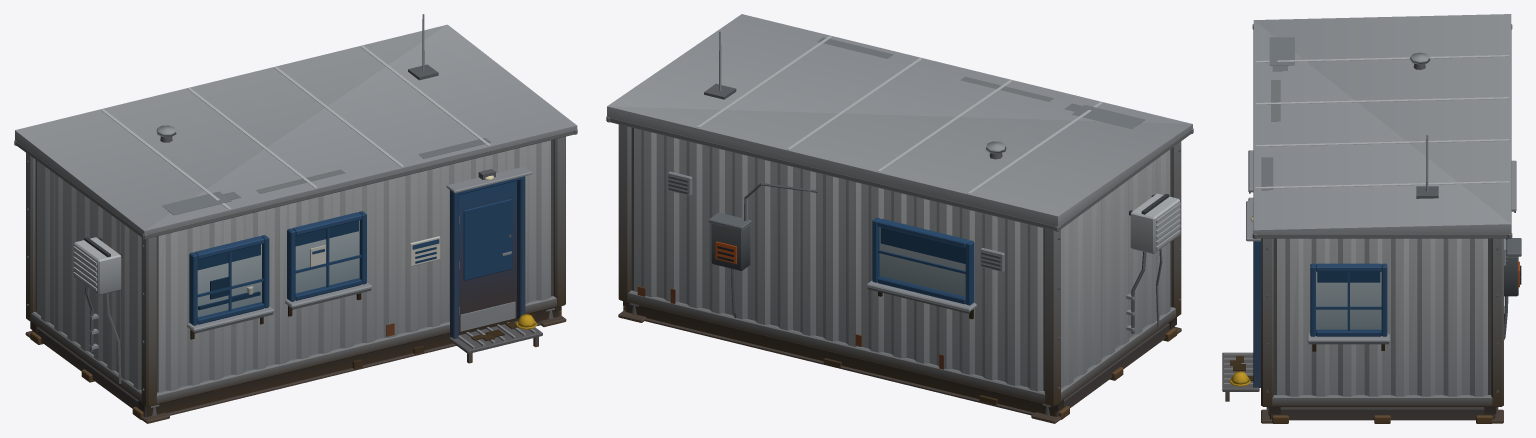
Rendered from portacabin-office.glb.
3 renders of one model, left to right at view 1: azimuth 30°, elevation 25°; view 2: azimuth 150°, elevation 25°; view 3: azimuth 270°, elevation 25°, orthographic. The views are drawn at different scales.
Visible parts, largest first — view 1: portacabin_office; view 2: portacabin_office; view 3: portacabin_office.
Boxes of the visible parts, <box> form: portacabin_office: <box>14,14,577,423</box>; portacabin_office: <box>606,14,1193,423</box>; portacabin_office: <box>1222,14,1521,423</box>.
Size of the model in its own units: 6.99 by 3.83 by 4.
